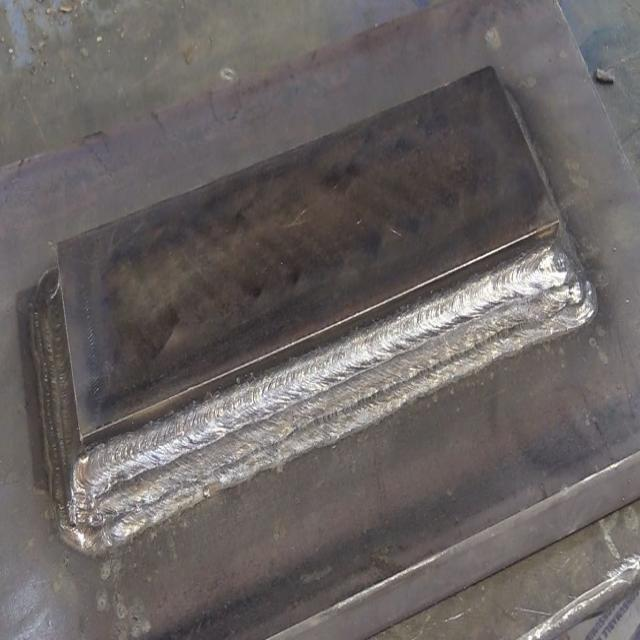Good Weld: (67, 232, 576, 528)
